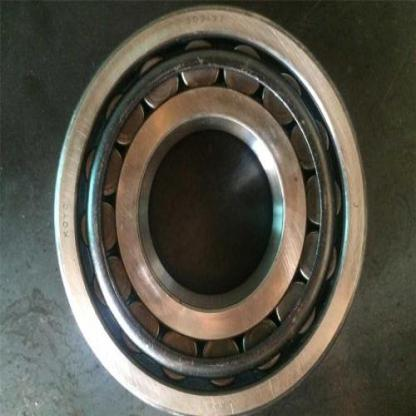FOD: (47, 1, 374, 415)
